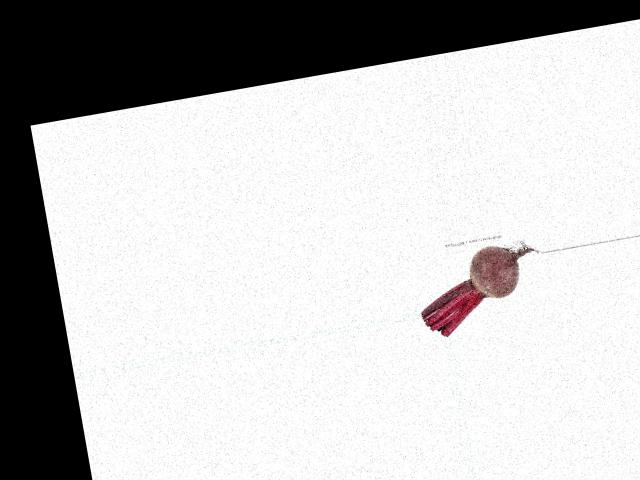beet: (411, 238, 550, 339)
